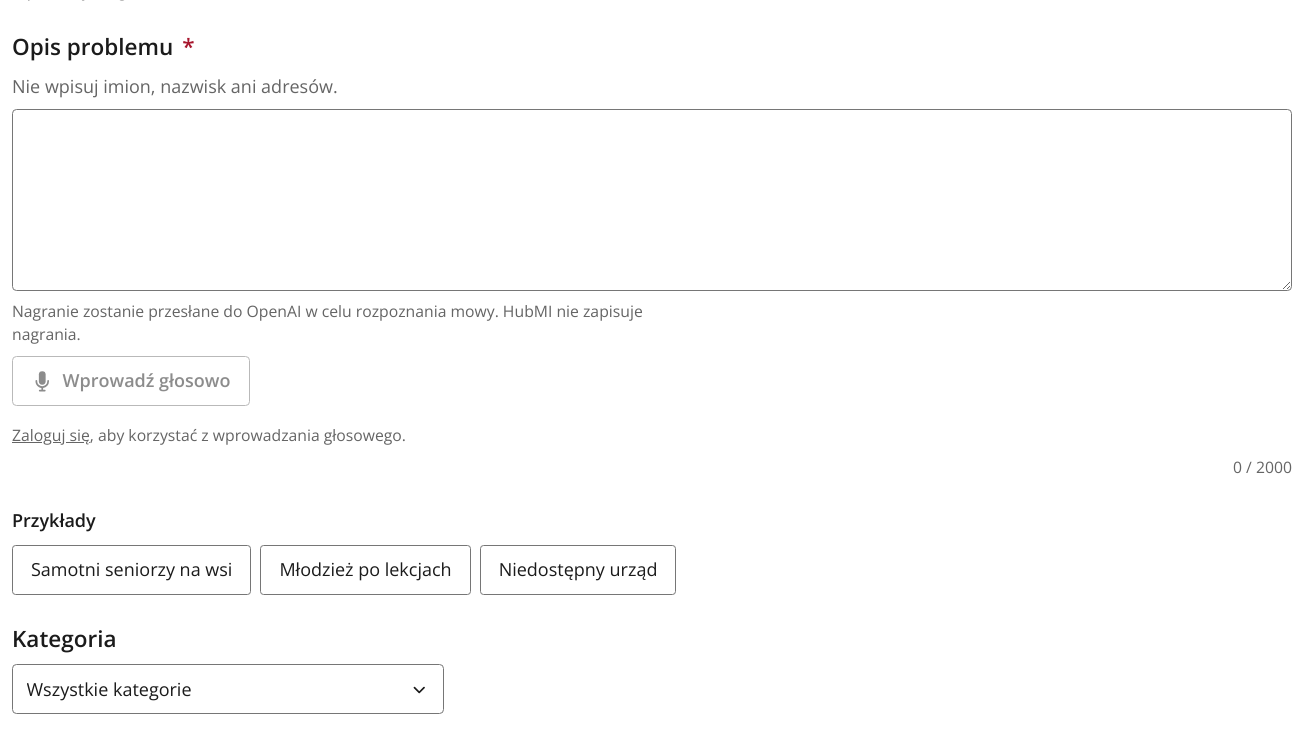
Test: MatchExperience › shows weak results only as less related, without a label or percentage
The image size is (1304, 741).
Type "Na dworcu kolejowym nie ma podjazdu dla wózków" into the text box labelled "Opis problemu".
click(652, 200); type("Na dworcu kolejowym nie ma podjazdu dla wózków")  # box [12,109,1292,291]
(page scrolled)
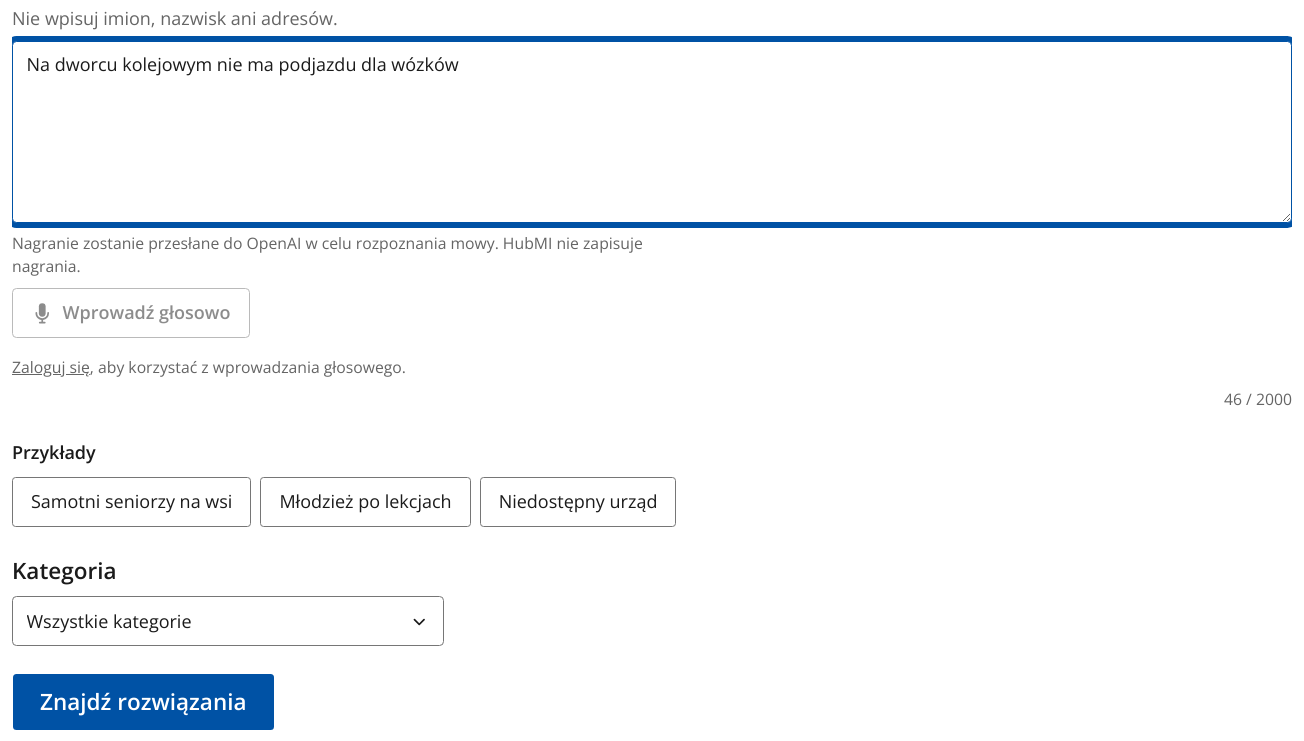
Click the button "Znajdź rozwiązania".
click(143, 702)  # box [12,673,274,731]
(page scrolled)
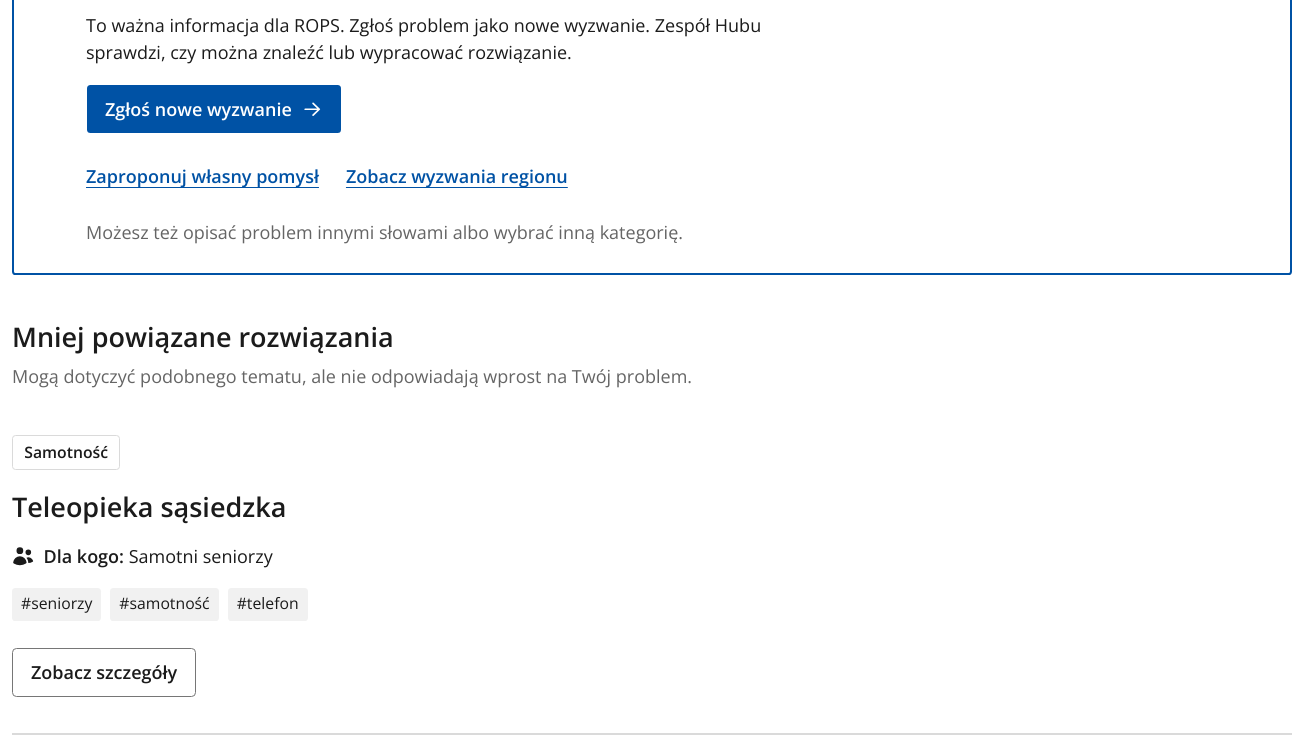
Result: the text "Mogą dotyczyć podobnego tematu, ale nie odpowiadają wprost na Twój problem." is shown at [12,363,784,390]
